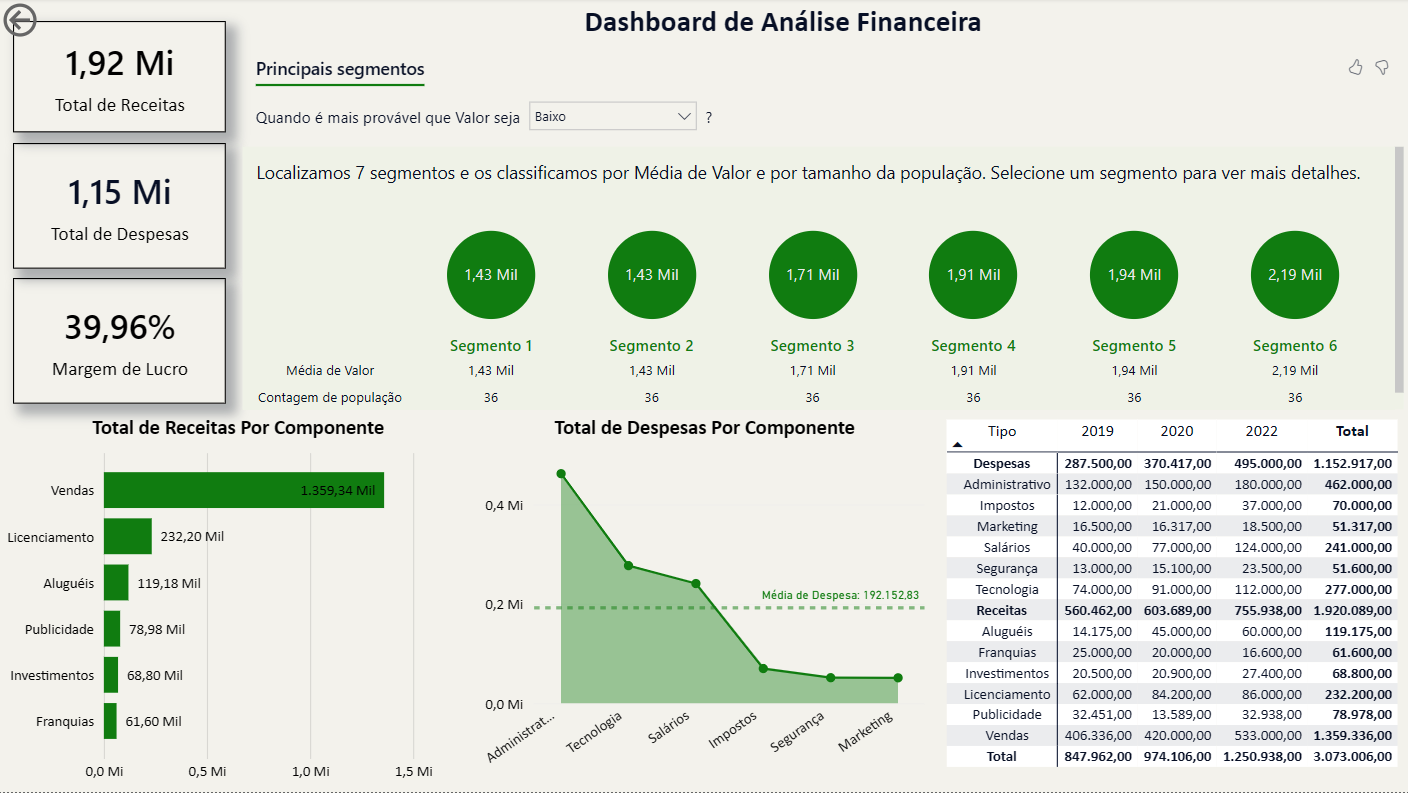

The page's visual inventory and layout, read from the dashboard file:
{"tool":"powerbi","page":{"name":"Análise Financeira","canvas":[1280,720],"ordinal":0},"visuals":[{"type":"cardVisual","fields":{"Data":["Receitas.TotalReceita"]},"box":[13.6,20.4,192.6,101.2],"z":0},{"type":"cardVisual","fields":{"Data":["Receitas.TotalDespesas"]},"box":[13.6,131.3,192.6,113.8],"z":1000},{"type":"cardVisual","fields":{"Data":["Receitas.MargemLucro"]},"box":[13.6,253.9,192.6,113.8],"z":2000},{"type":"clusteredBarChart","title":"Total de Receitas Por Componente","fields":{"Category":["DadosFinanceiros.Componente"],"Y":["Medidas.TotalReceita"]},"box":[0,377.4,435.7,342.4],"z":3000},{"type":"areaChart","title":"Total de Despesas Por Componente","fields":{"Category":["DadosFinanceiros.Componente"],"Y":["Medidas.TotalDespesas"]},"box":[435.7,377.4,409.5,342.4],"z":4000},{"type":"actionButton","box":[0,0,100,40],"z":5000},{"type":"pivotTable","fields":{"Rows":["DadosFinanceiros.Tipo","DadosFinanceiros.Componente"],"Values":["Sum(DadosFinanceiros.Valor)"],"Columns":["DadosFinanceiros.Data.Variation.Hierarquia de datas.Ano"]},"box":[855,377.4,425,342.4],"z":6000},{"type":"keyDriversVisual","fields":{"Target":["DadosFinanceiros.Valor"],"ExplainBy":["DadosFinanceiros.Tipo","DadosFinanceiros.Componente"]},"box":[216.9,39.9,1063.1,337.5],"z":7000},{"type":"textbox","box":[527.2,0,414.3,47.7],"z":8000}]}

Visuals, with their boxes in screenshot pixels (x1, y1, x2, y2), scaled from the page's 1280x720 canvas onto the 1408x793 screenshot:
cardVisual - Receitas.TotalReceita: 15,22,227,134
cardVisual - Receitas.TotalDespesas: 15,145,227,270
cardVisual - Receitas.MargemLucro: 15,280,227,405
"Total de Receitas Por Componente" clusteredBarChart: 0,416,479,792
"Total de Despesas Por Componente" areaChart: 479,416,930,792
actionButton: 0,0,110,44
pivotTable - DadosFinanceiros.Tipo x DadosFinanceiros.Componente: 941,416,1407,792
keyDriversVisual - DadosFinanceiros.Valor x DadosFinanceiros.Tipo: 239,44,1407,416
textbox: 580,0,1036,53
